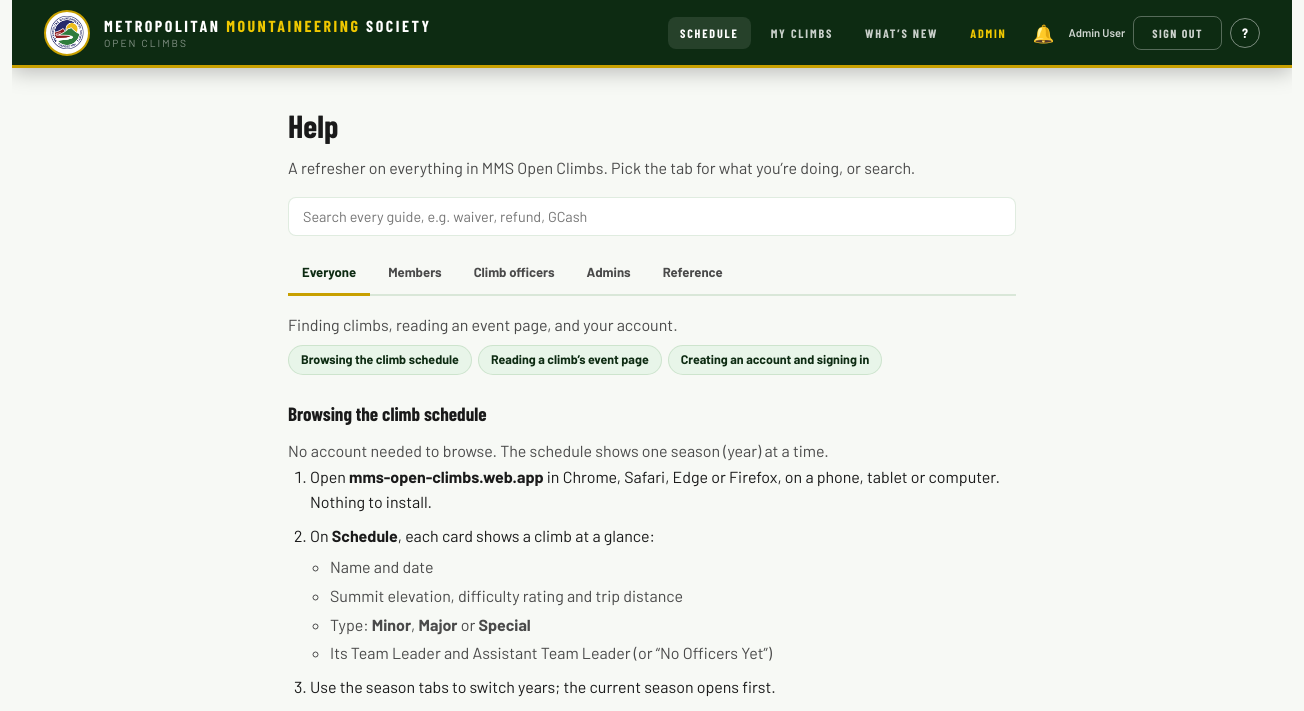
Help page › searches every tab at once, and says when nothing matches
Type "offline" into the search field named "Search the guides" at (652, 216), box [288,197,1016,236]
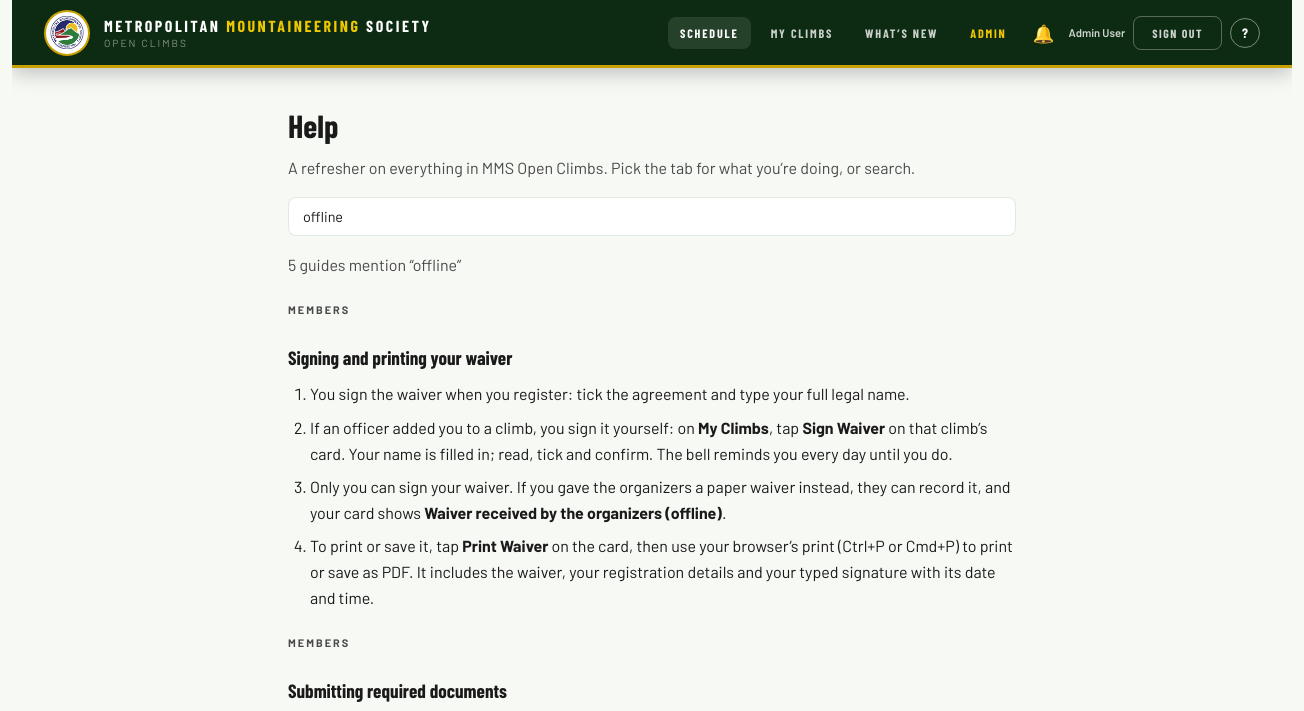
Expected: the heading "Signing and printing your waiver" is shown, [288,346,512,369]
Replace the text in the search field named "Search the guides" with "zzqqxx" at (652, 216), box [288,197,1016,236]
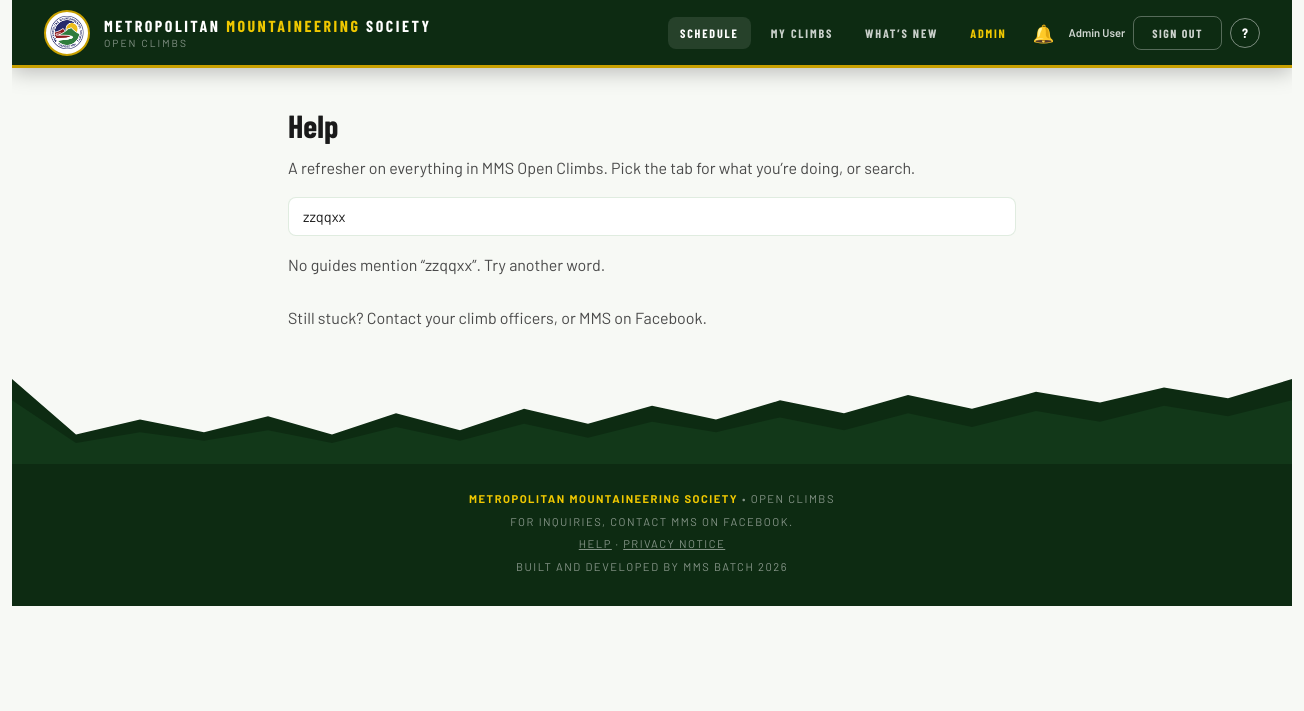
Expected: the message shows "No guides mention", [288,255,605,274]
